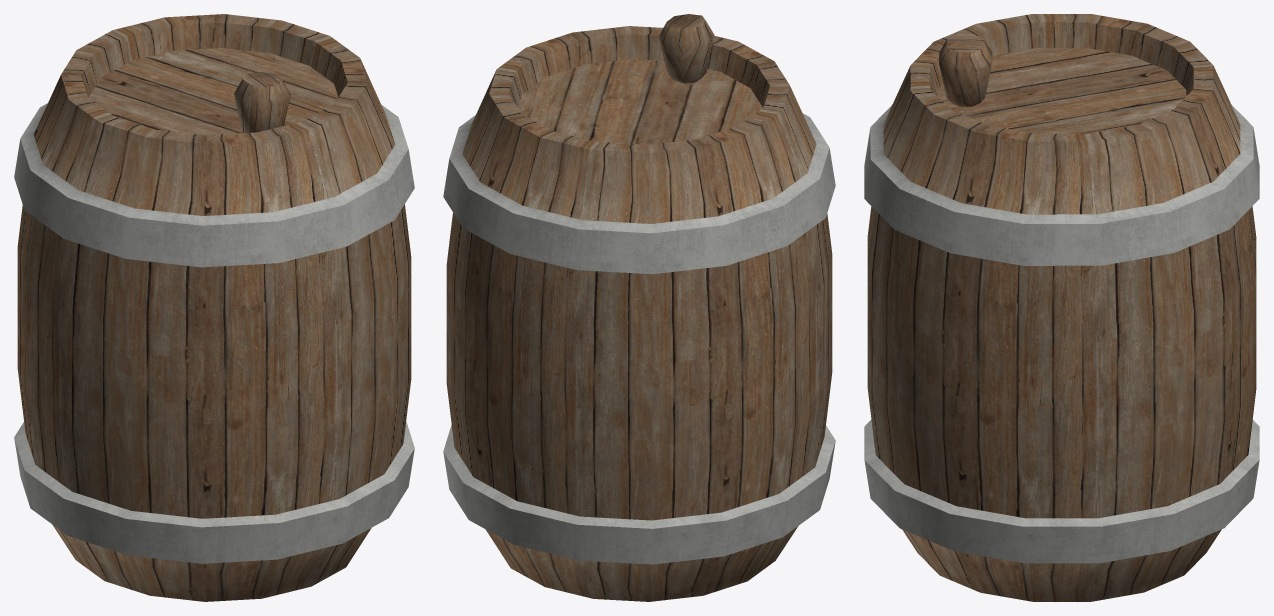
Rendered from RC_Market_Barrel_01.gltf.
The picture shows the model from 3 angles, left to right: view 1: azimuth 30°, elevation 25°; view 2: azimuth 150°, elevation 25°; view 3: azimuth 270°, elevation 25°; orthographic projection. The views are drawn at different scales.
Visible parts, largest first — view 1: RC_Market_Barrel_01(Clone); view 2: RC_Market_Barrel_01(Clone); view 3: RC_Market_Barrel_01(Clone).
Part boxes in pixels (box(x1,y1,x2,y2)): RC_Market_Barrel_01(Clone): box(14, 14, 414, 601); RC_Market_Barrel_01(Clone): box(443, 14, 835, 601); RC_Market_Barrel_01(Clone): box(864, 14, 1259, 601).
Bounding box in the file's own units: 1.21 × 1.68 × 1.21.
2 materials, 2 textured.
